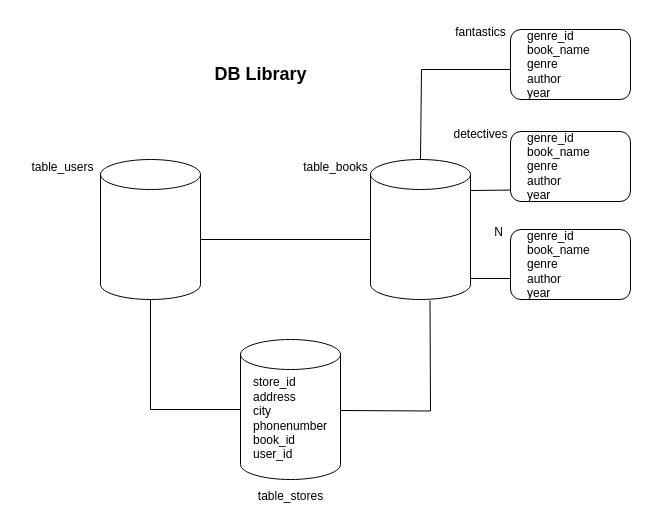
Some shapes in this 648 by 528 pixel diagram are drawn without their labels. The shapes that lost their labels are listed below. From the top down, each one's centre as x and y in pixels, then its label:
At [150,229]: "user_id user_login user_email user_password book_id store_id".
At [420,229]: "genre_id genre store_id user_id".
